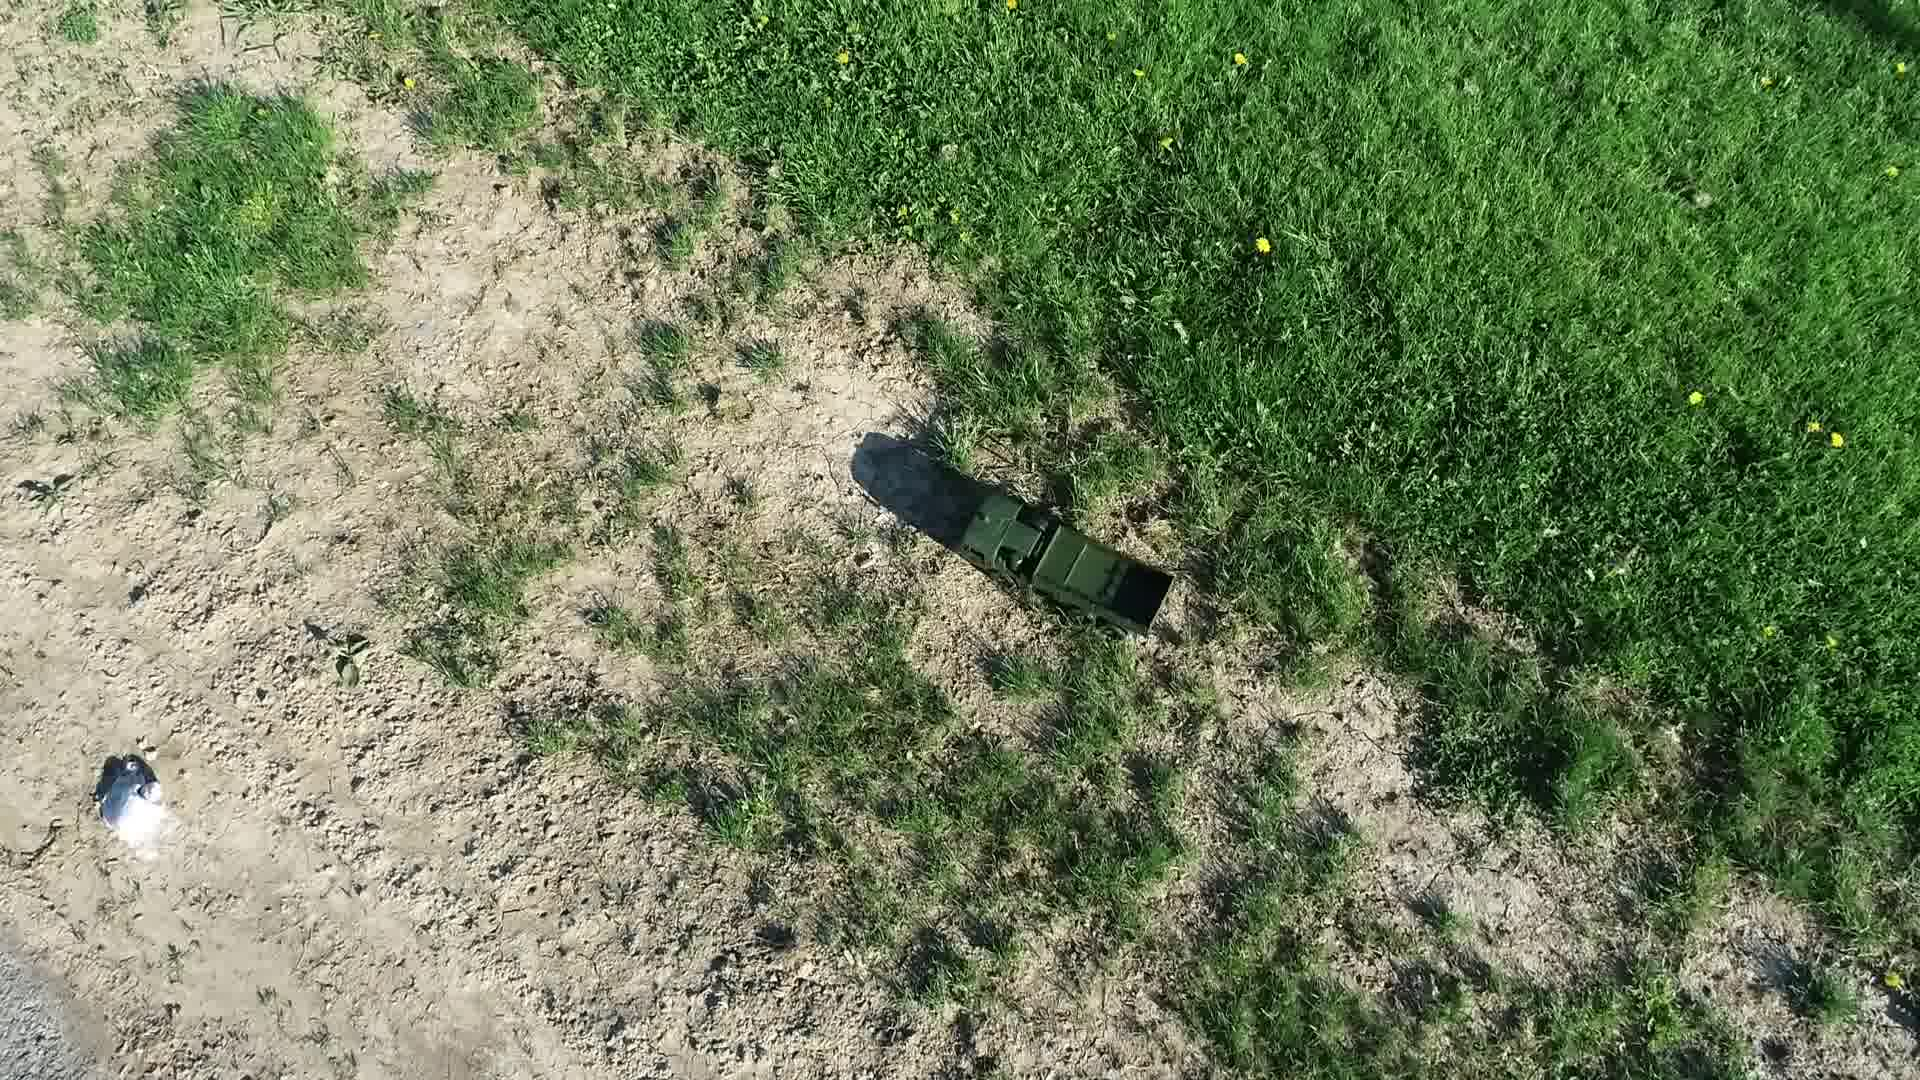transporter9: (957, 481, 1179, 655)
